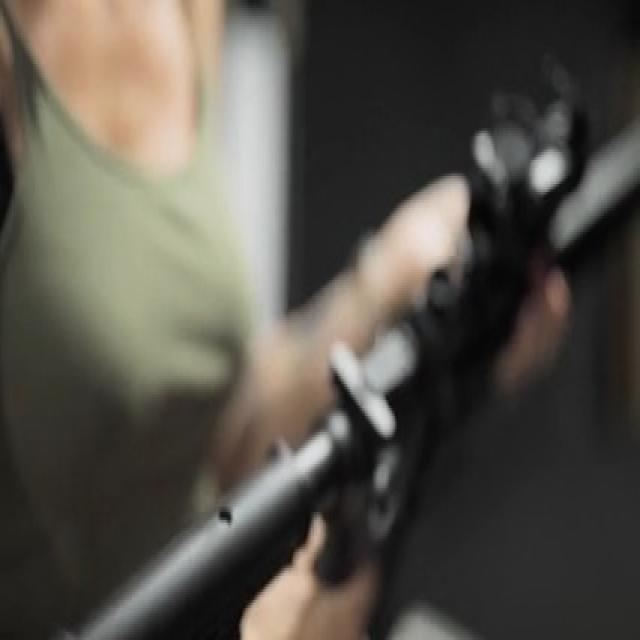Gun_Holder: (57, 2, 638, 640)
